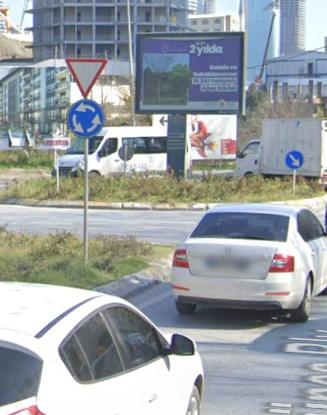crossroads: (71, 102, 101, 138)
